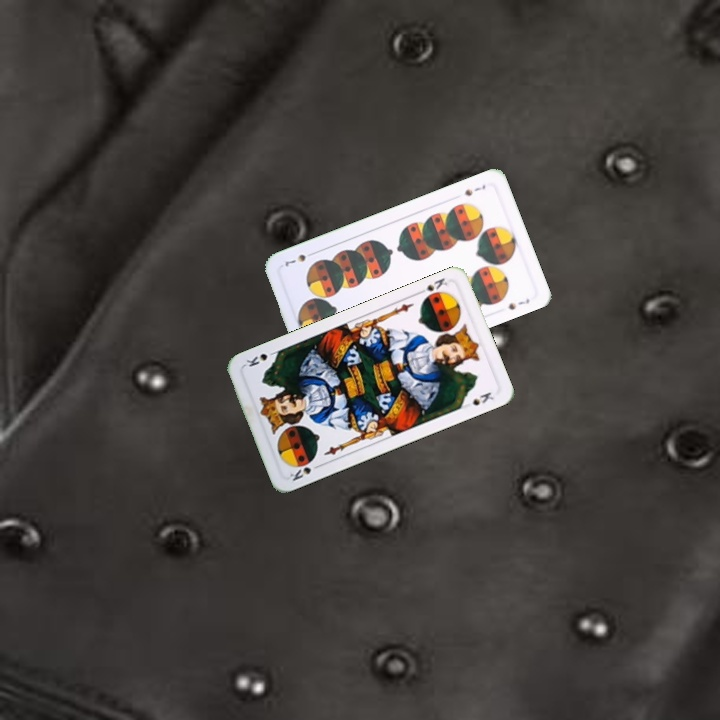S7: (460, 181, 488, 198)
SK: (286, 460, 324, 484), (414, 274, 450, 297)
